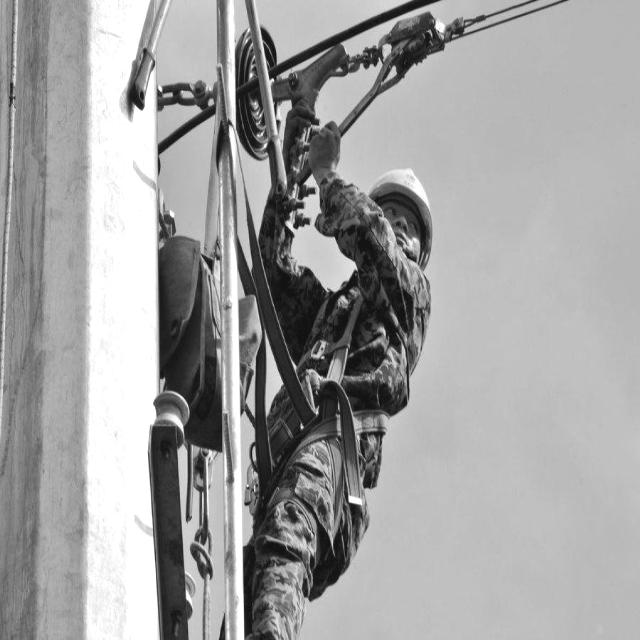face_nomask: (379, 197, 425, 265)
hand_noglove: (277, 96, 315, 150), (312, 121, 345, 180)
head_helmet: (366, 165, 435, 267)
person: (250, 159, 433, 640)
